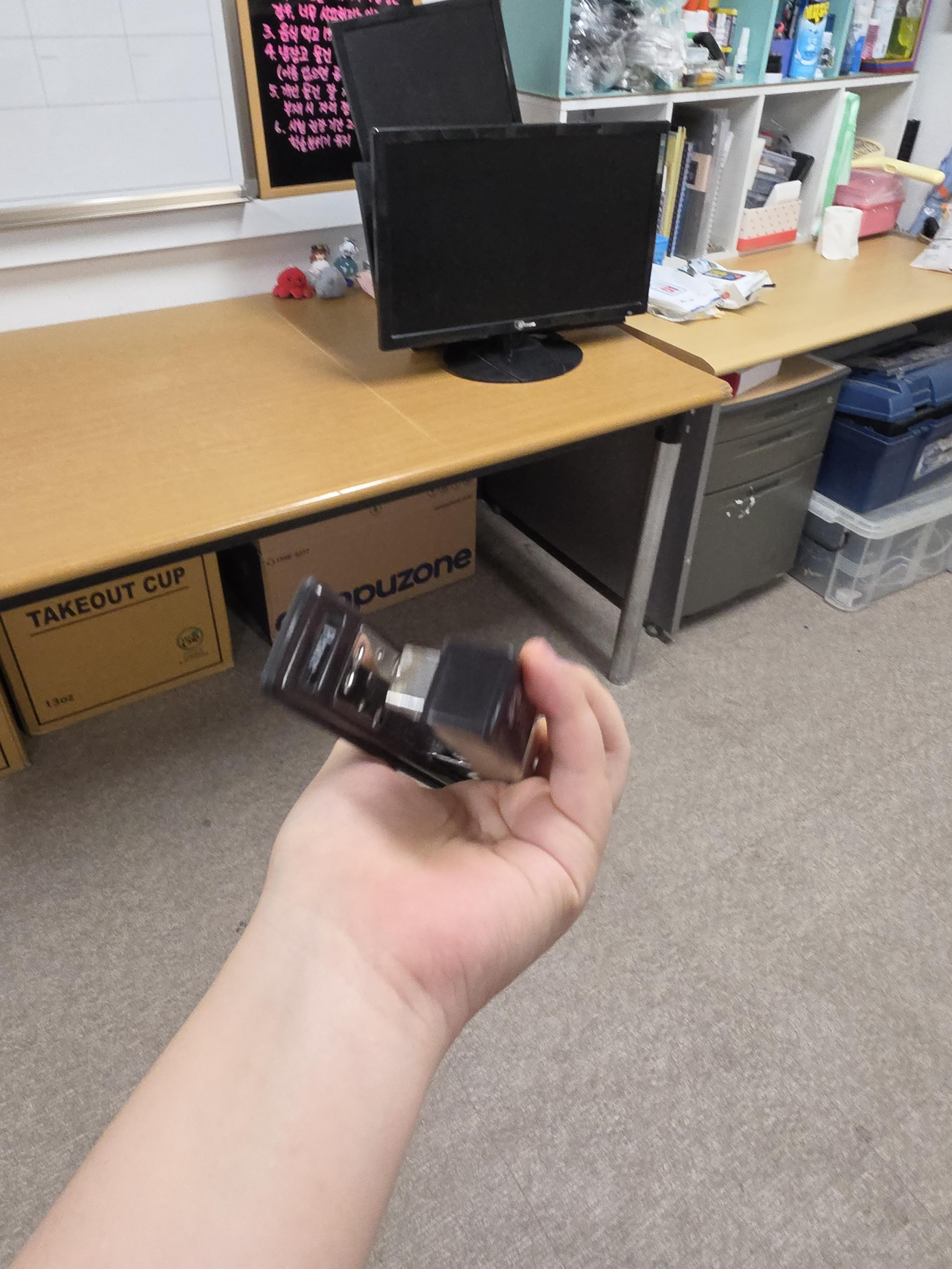stapler: (260, 574, 545, 791)
tissue: (735, 178, 803, 253), (818, 205, 863, 261)
